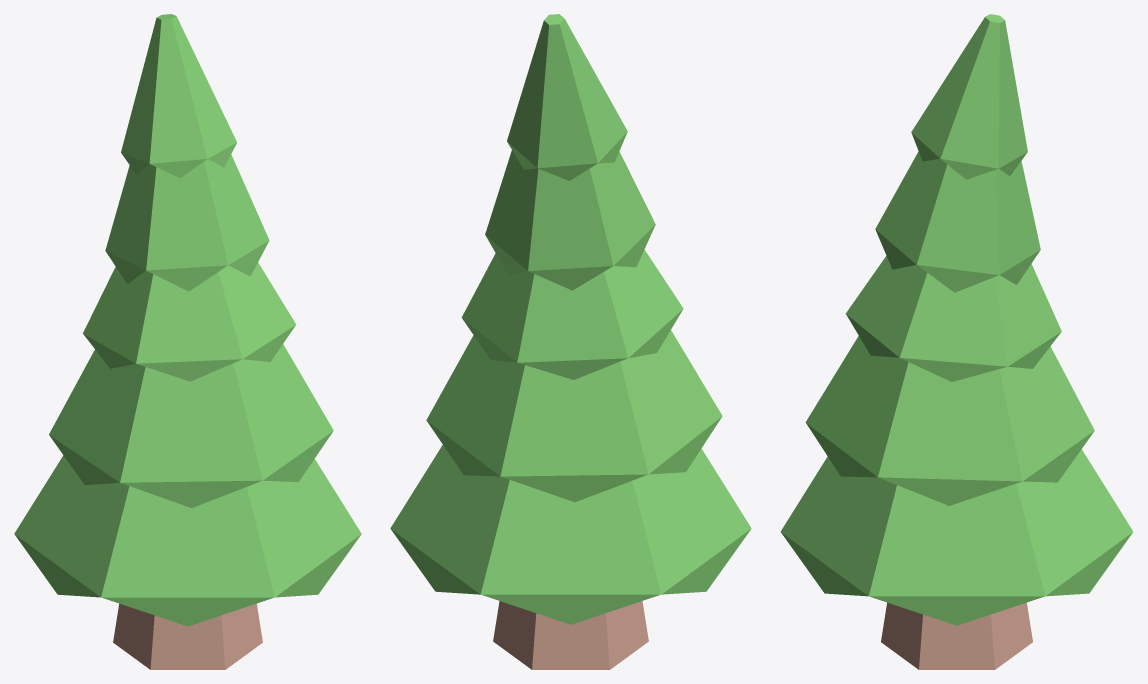
Rendered from tree_pineRoundD.glb.
The picture shows the model from 3 angles, left to right: view 1: azimuth 30°, elevation 25°; view 2: azimuth 150°, elevation 25°; view 3: azimuth 270°, elevation 25°; orthographic projection. The views are drawn at different scales.
Visible parts, largest first — view 1: tree_pineRoundD; view 2: tree_pineRoundD; view 3: tree_pineRoundD.
Boxes of the visible parts, bbox=[...] form: tree_pineRoundD: bbox=[14, 14, 361, 669]; tree_pineRoundD: bbox=[390, 14, 751, 669]; tree_pineRoundD: bbox=[780, 14, 1133, 669].
Bounding box in the file's own units: 0.4804 × 1.08 × 0.5547.
